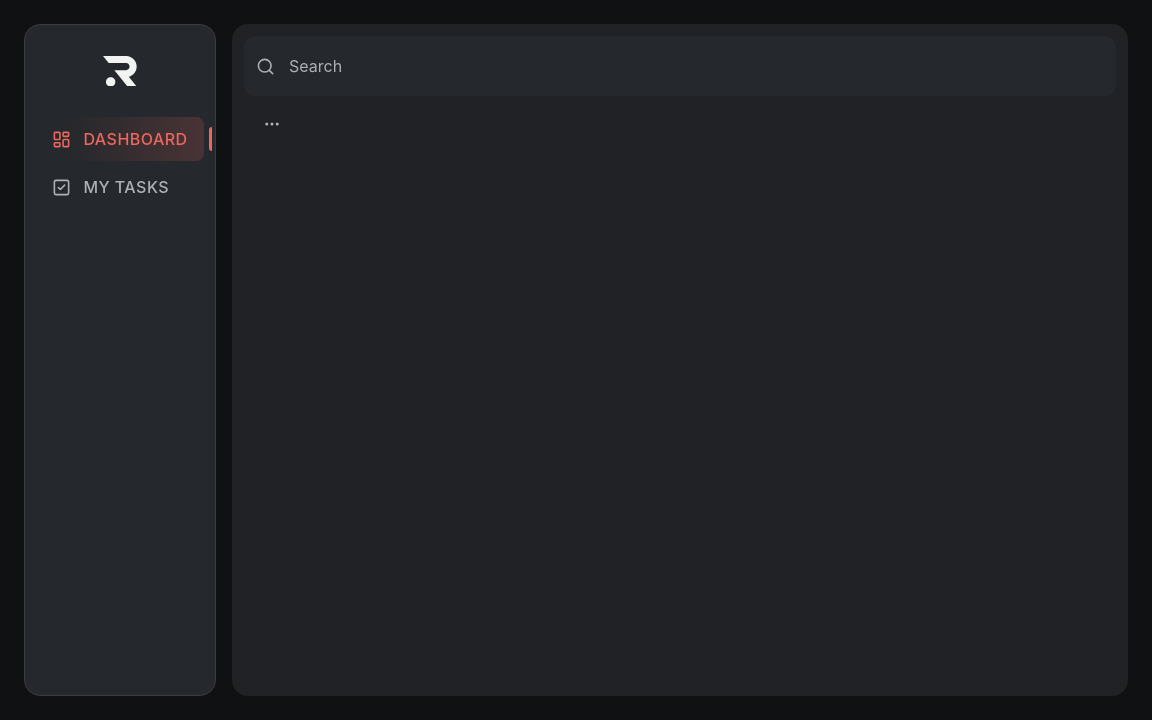
AppLayout task editing › keeps the draft and reports an edit that failed
Click the button named "More options for Ship the mutation" at [272, 124], box [256,108,288,140]
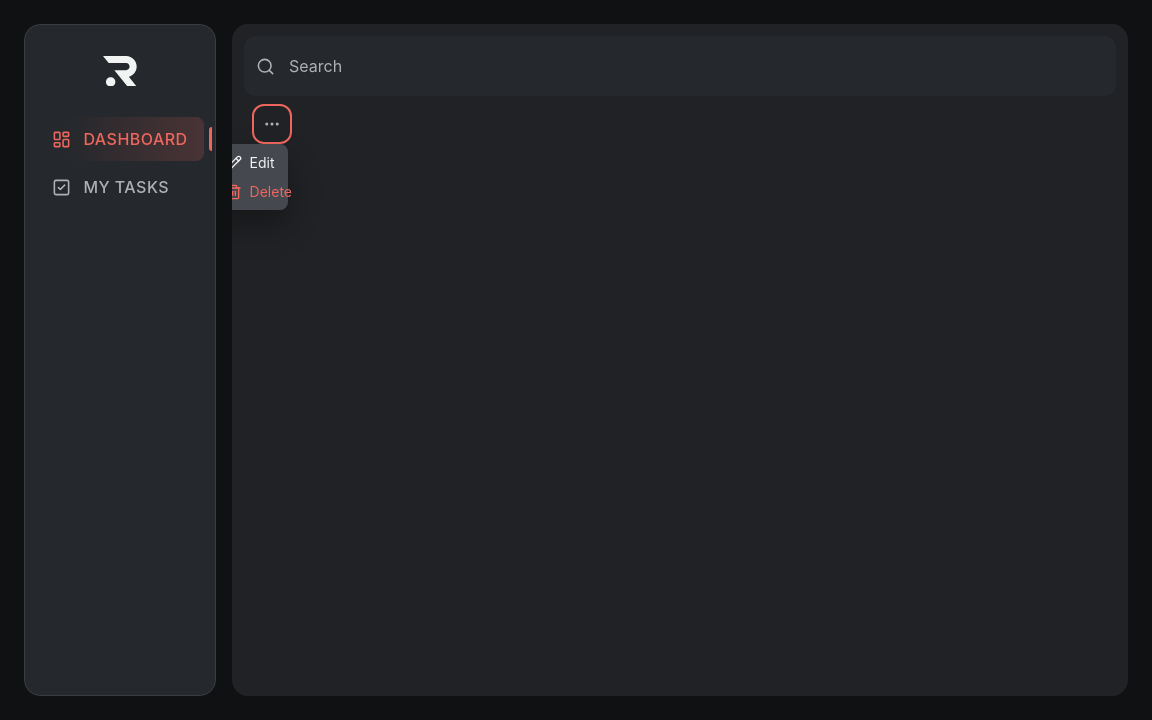
Click the menu item "Edit" at [251, 162], box [218,148,284,177]
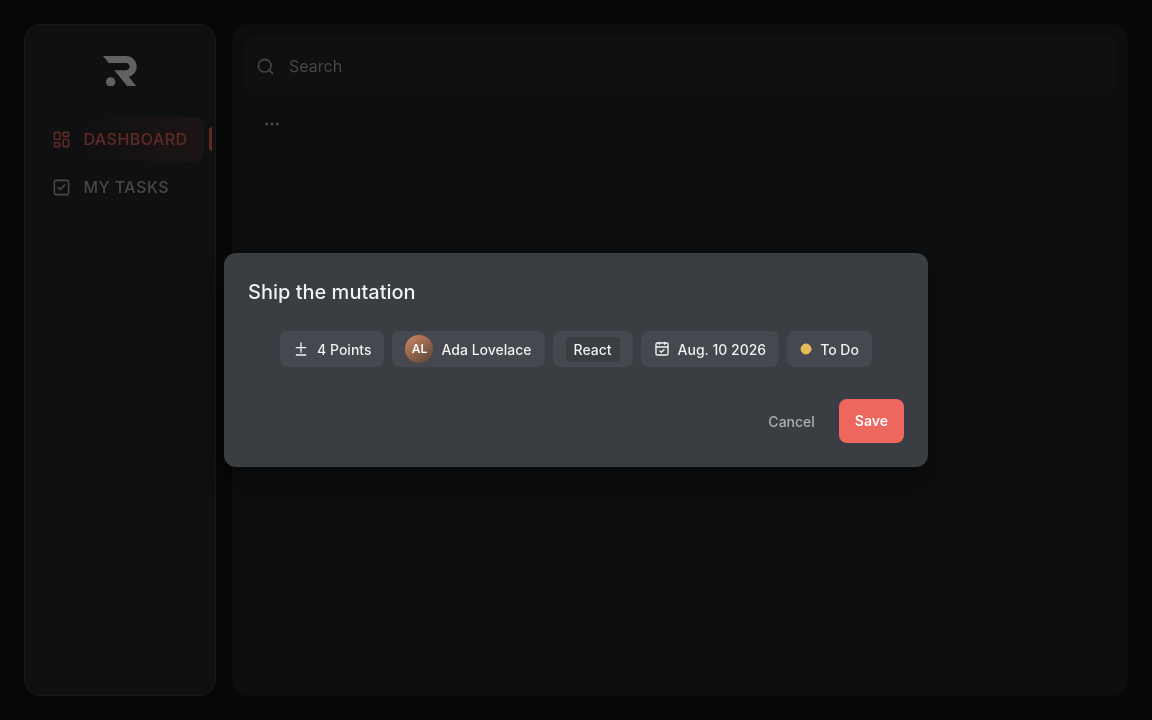
Click the button "Save" at [871, 421], box [839,399,904,443]
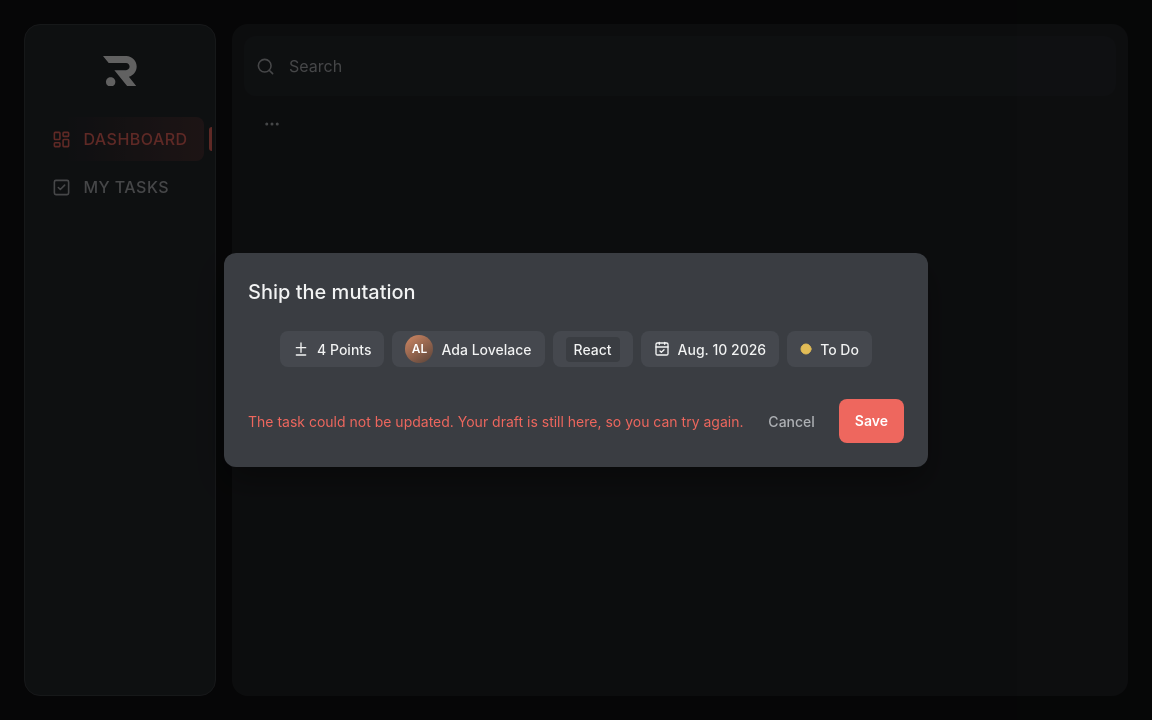
expect the dialog named "Edit Task" is shown: met, box [224,253,928,467]
expect the field named "Task Title" holds "Ship the mutation": met, box [248,277,904,307]
expect the message shows "The task could not be updated": met, box [248,412,744,430]
